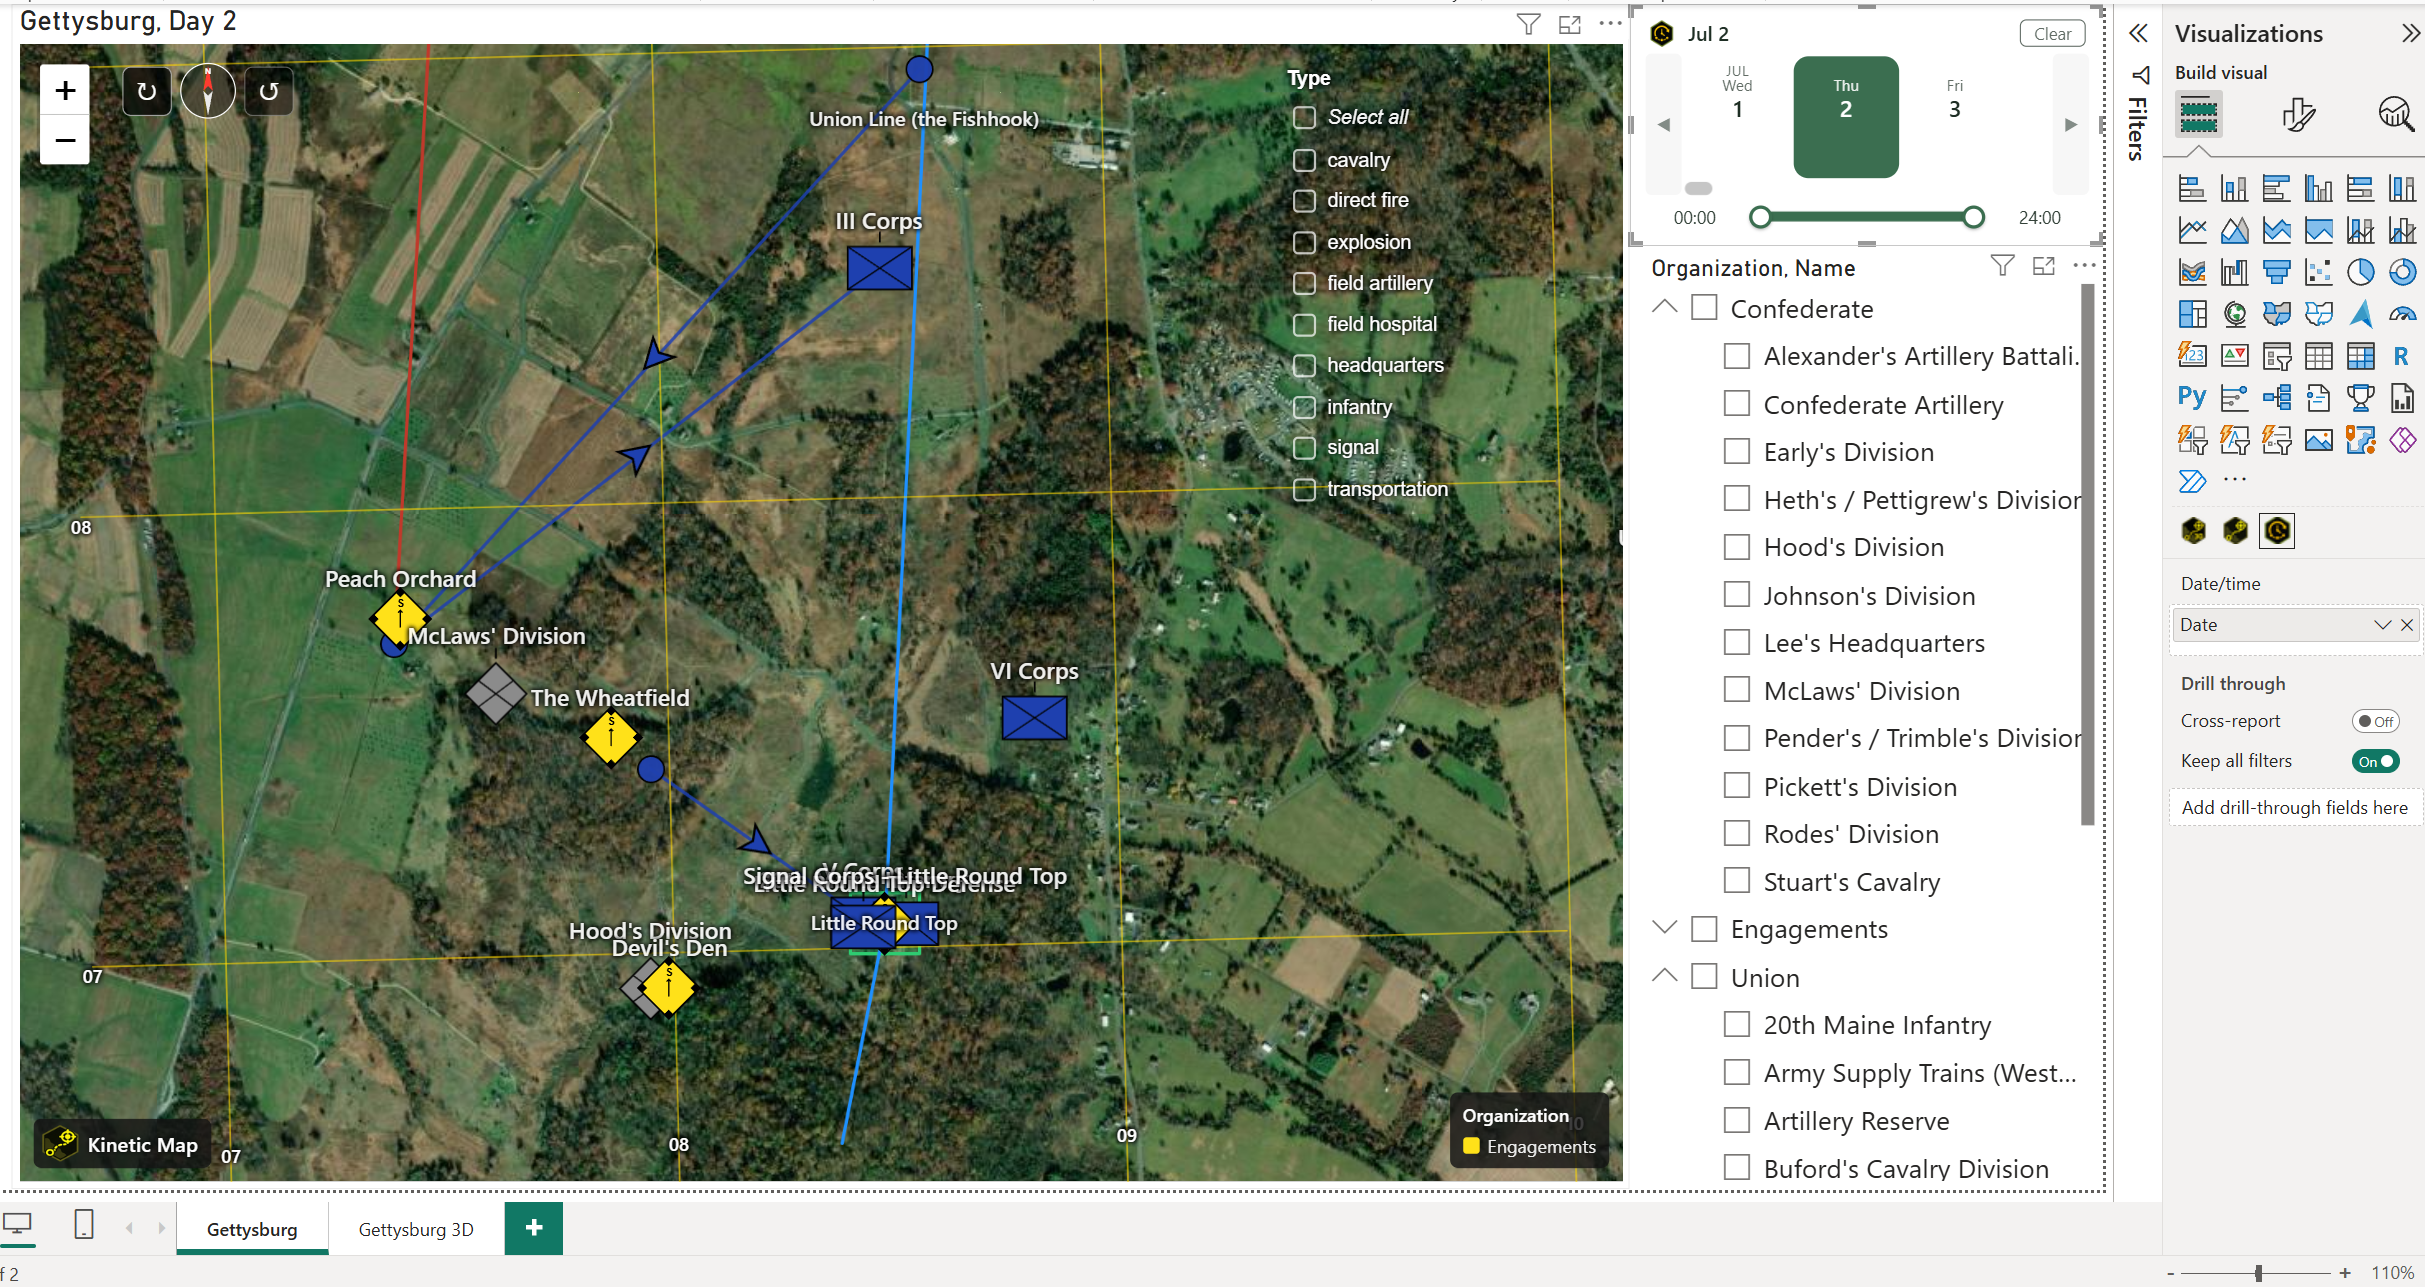

What the dashboard file says about the page in this screenshot:
{"tool":"powerbi","page":{"name":"Gettysburg","canvas":[1280,720],"ordinal":0},"visuals":[{"type":"kineticMapE3F2CDD8F7054400FF4320D58E5C614F","title":"Gettysburg, Day 2","fields":{"entityId":["Symbols.ID"],"symbolType":["Symbols.Type"],"name":["Symbols.Name"],"color":["Symbols.Color"],"organization":["Symbols.Organization"],"priority":["Symbols.Priority"],"date":["Symbols.Date"],"affiliation":["Symbols.Affiliation"],"filter":["Symbols.Type"],"mgrs":["Symbols.MGRS"]},"box":[10.1,0,982.6,719.1],"z":0},{"type":"kineticTimelineBCB5DB419E6C423A9F83EA884768404A","fields":{"timestamp":["Symbols.Date"]},"box":[992.7,0,287.7,146.8],"z":1000},{"type":"slicer","fields":{"Values":["Symbols.Organization","Symbols.Name"]},"box":[993,147,287,572],"z":2000}]}

Visuals, with their boxes on the page's 1280x720 design canvas (x1, y1, x2, y2). These are canvas units, not pixel positions in the 2425x1287 screenshot, which may show the page scaled, cropped or inside an application window:
"Gettysburg, Day 2" kineticMapE3F2CDD8F7054400FF4320D58E5C614F: 10 0 993 719
kineticTimelineBCB5DB419E6C423A9F83EA884768404A - Symbols.Date: 993 0 1280 147
slicer - Symbols.Organization x Symbols.Name: 993 147 1280 719
